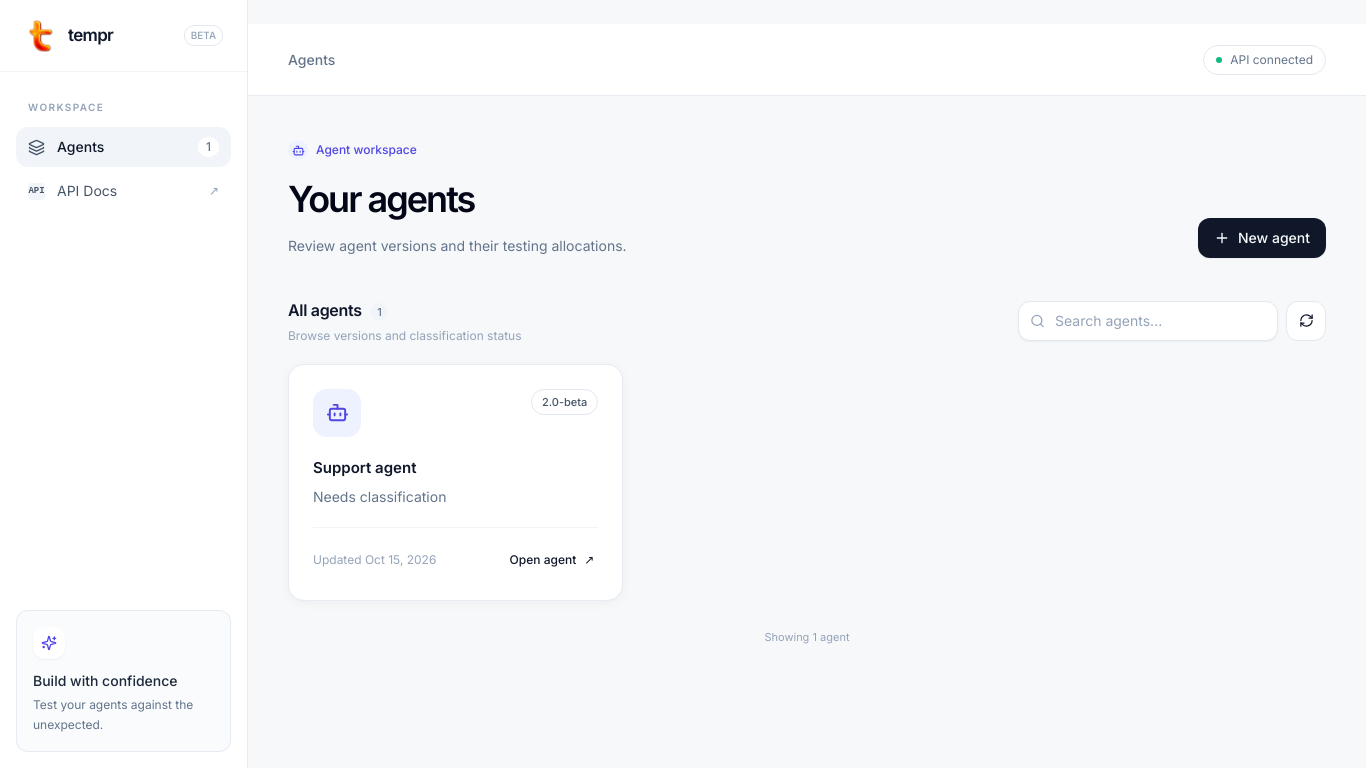
it: versioned agent workspace › opens an agent from the list and shows its latest version and allocation prompt
The image size is (1366, 768).
Click the link "Open agent ↗" at (552, 560), box [510,552,594,567]
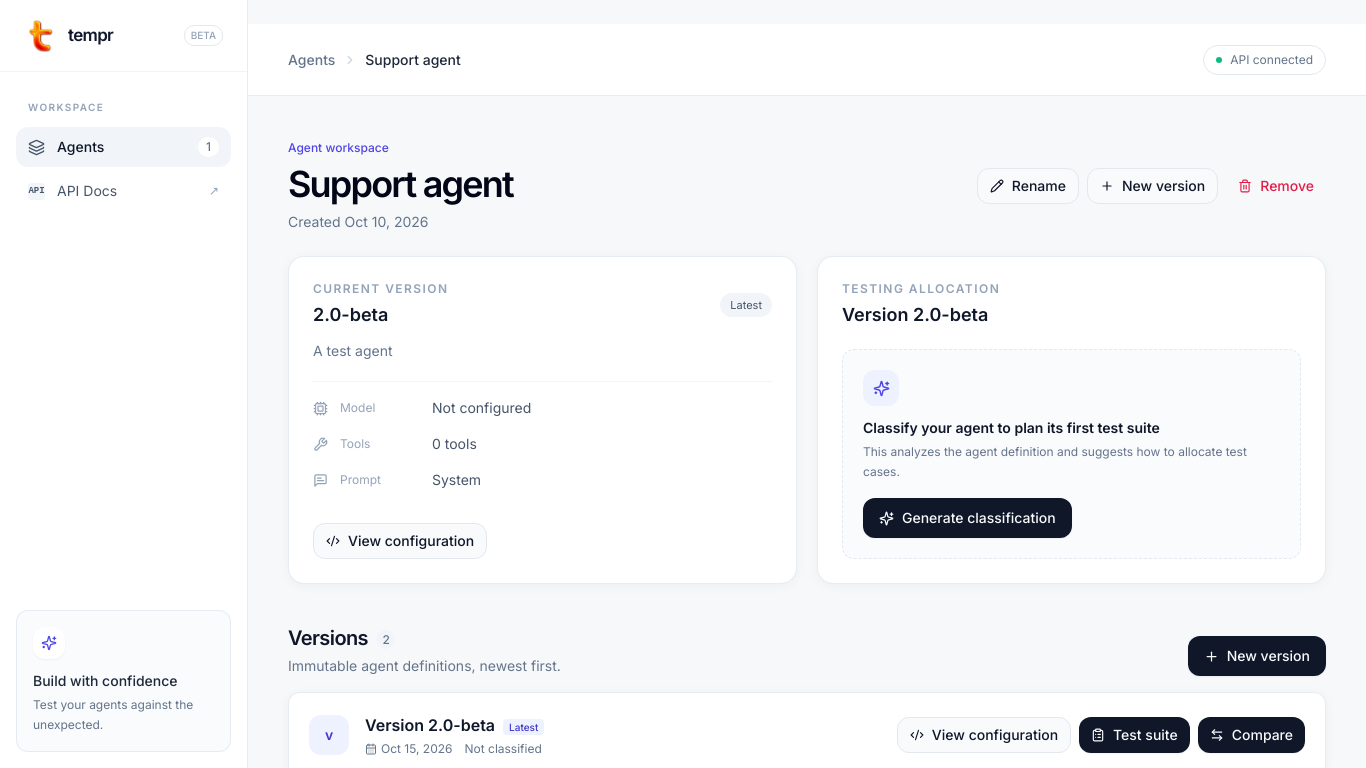
Check: the heading "Support agent" is shown, box [288,164,513,204]
Check: the heading "2.0-beta" is shown, box [313,304,388,325]
Check: the heading "Classify your agent to plan its first test suite" is shown, box [863,419,1160,436]
